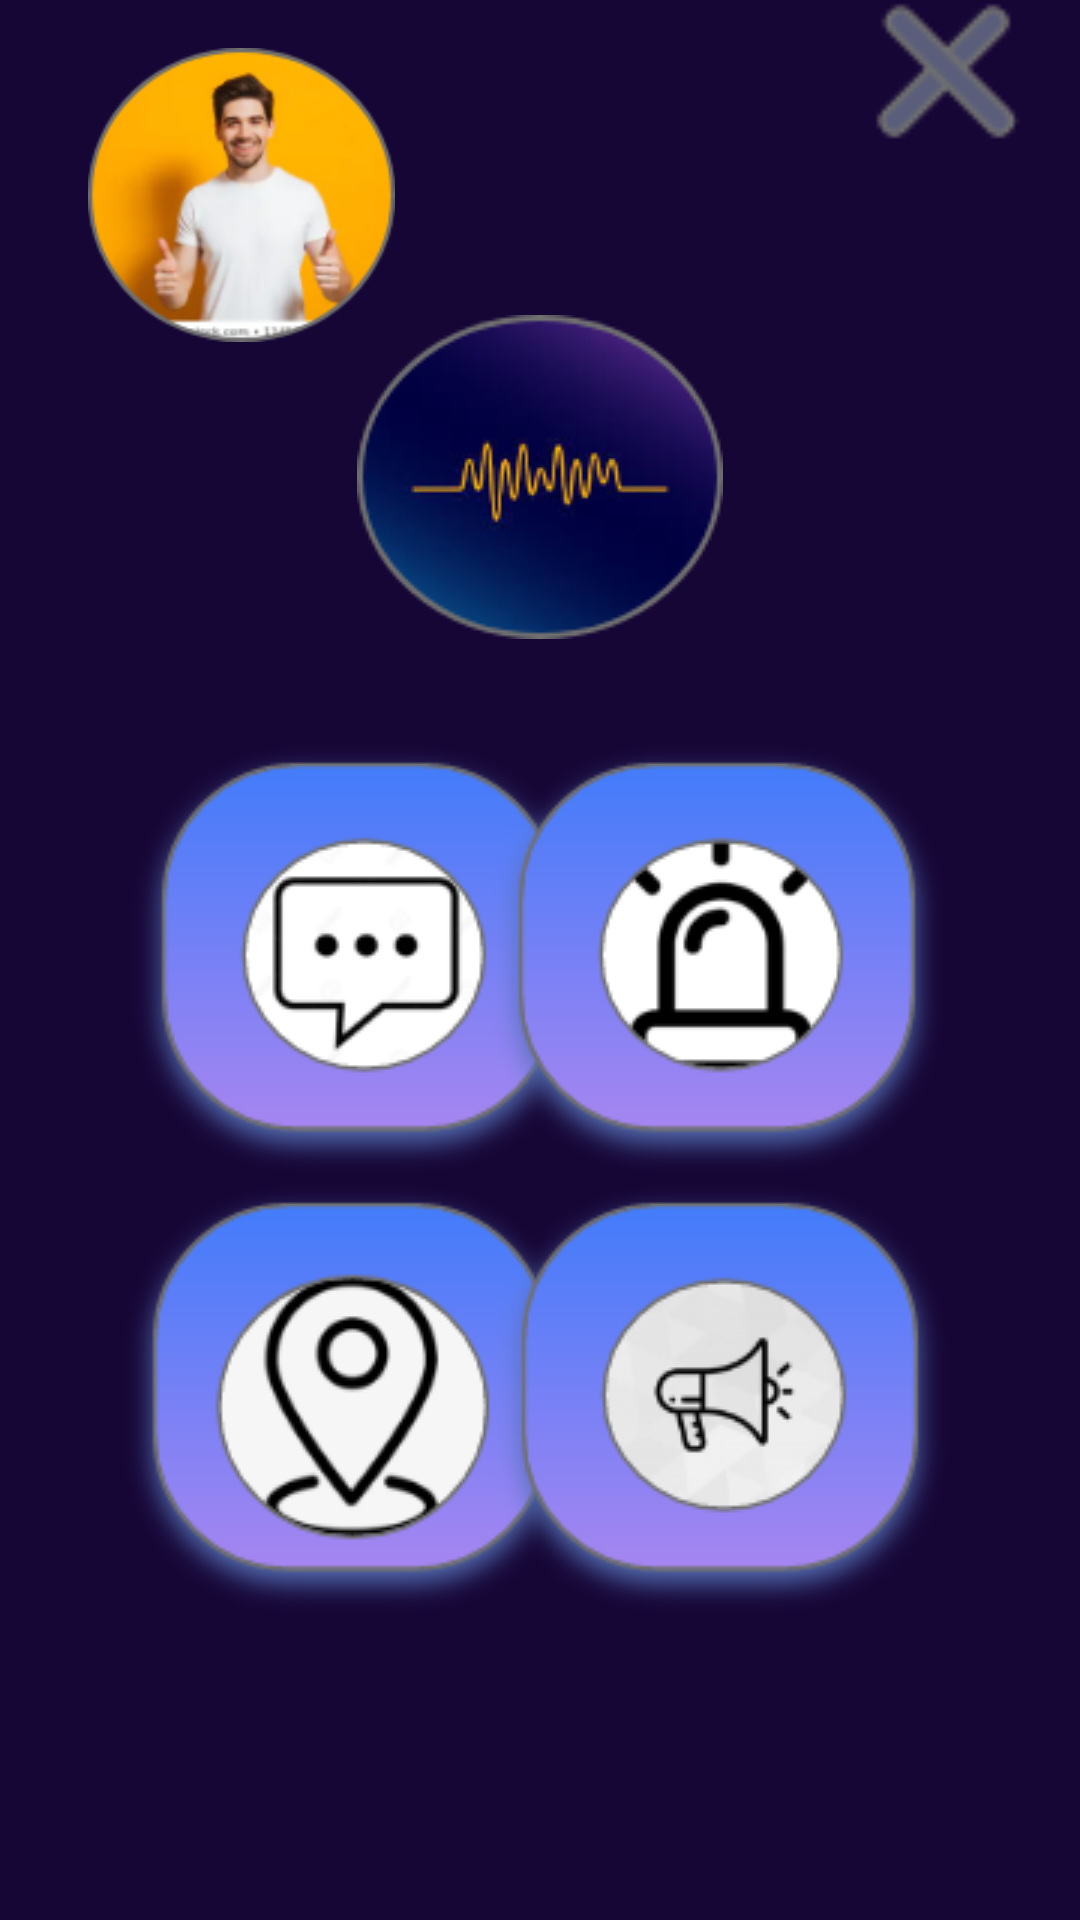

Named icons in this screenshot (1080px x 1920px) and their bounding boxes, (x1, y1, x2, y2):
carpi: (877, 4, 1016, 138)
